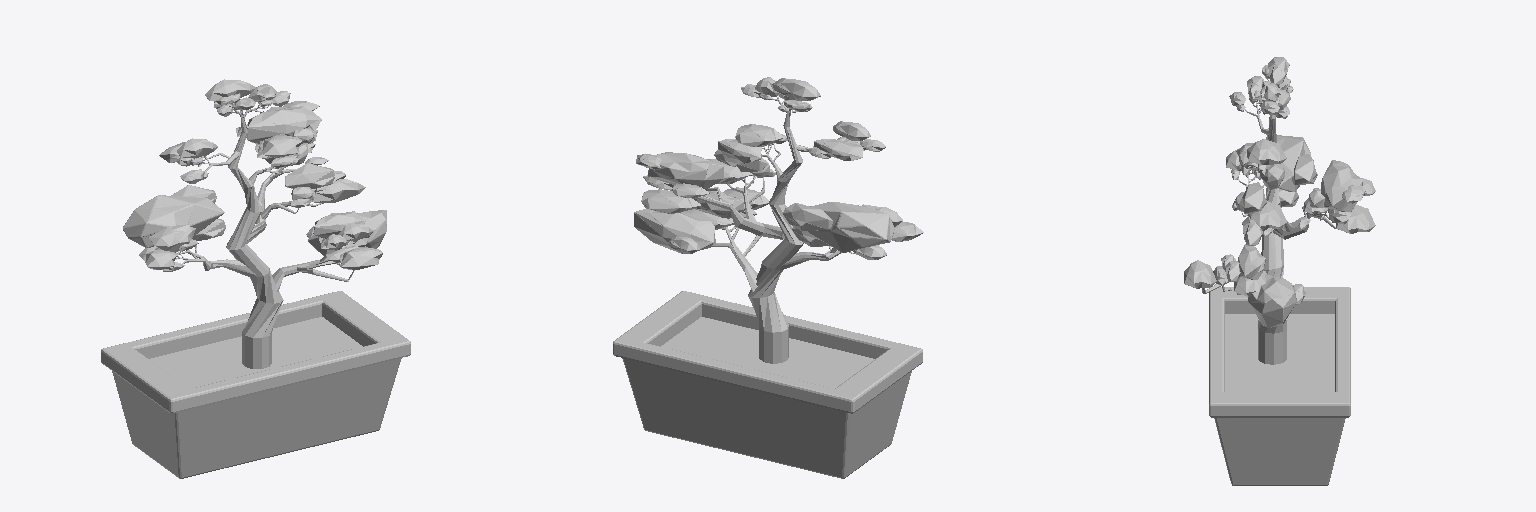
The model's file is bonsai.obj.
3 renders of one model, left to right at view 1: azimuth 30°, elevation 25°; view 2: azimuth 150°, elevation 25°; view 3: azimuth 270°, elevation 25°, orthographic.
Parts seen in each view (by area): view 1: group1 pCube1, TREE2 group1; view 2: group1 pCube1, TREE2 group1; view 3: group1 pCube1, TREE2 group1.
Part boxes in pixels (left/top/right/bottom): group1 pCube1: left=101, top=291, right=410, bottom=478; TREE2 group1: left=123, top=79, right=386, bottom=368; group1 pCube1: left=613, top=291, right=922, bottom=478; TREE2 group1: left=634, top=77, right=923, bottom=363; group1 pCube1: left=1209, top=287, right=1350, bottom=485; TREE2 group1: left=1184, top=57, right=1375, bottom=364.
Size of the model in its own units: 0.2304 by 0.3027 by 0.1446.